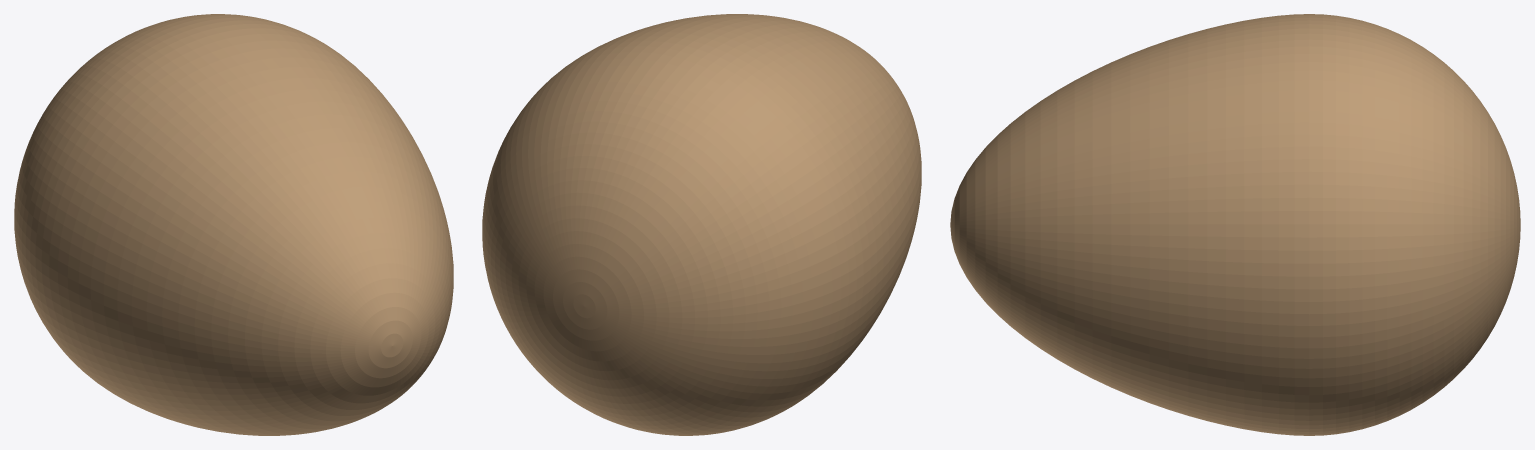
File: ProjectileEgg.fbx
The picture shows the model from 3 angles, left to right: view 1: azimuth 30°, elevation 25°; view 2: azimuth 150°, elevation 25°; view 3: azimuth 270°, elevation 25°; orthographic projection. The views are drawn at different scales.
Parts seen in each view (by area): view 1: Sphere; view 2: Sphere; view 3: Sphere.
Part boxes in pixels (left/top/right/bottom): Sphere: left=14, top=14, right=453, bottom=435; Sphere: left=482, top=14, right=921, bottom=435; Sphere: left=950, top=14, right=1520, bottom=435.
Bounding box in the file's own units: 40.18 × 40.18 × 54.31.
